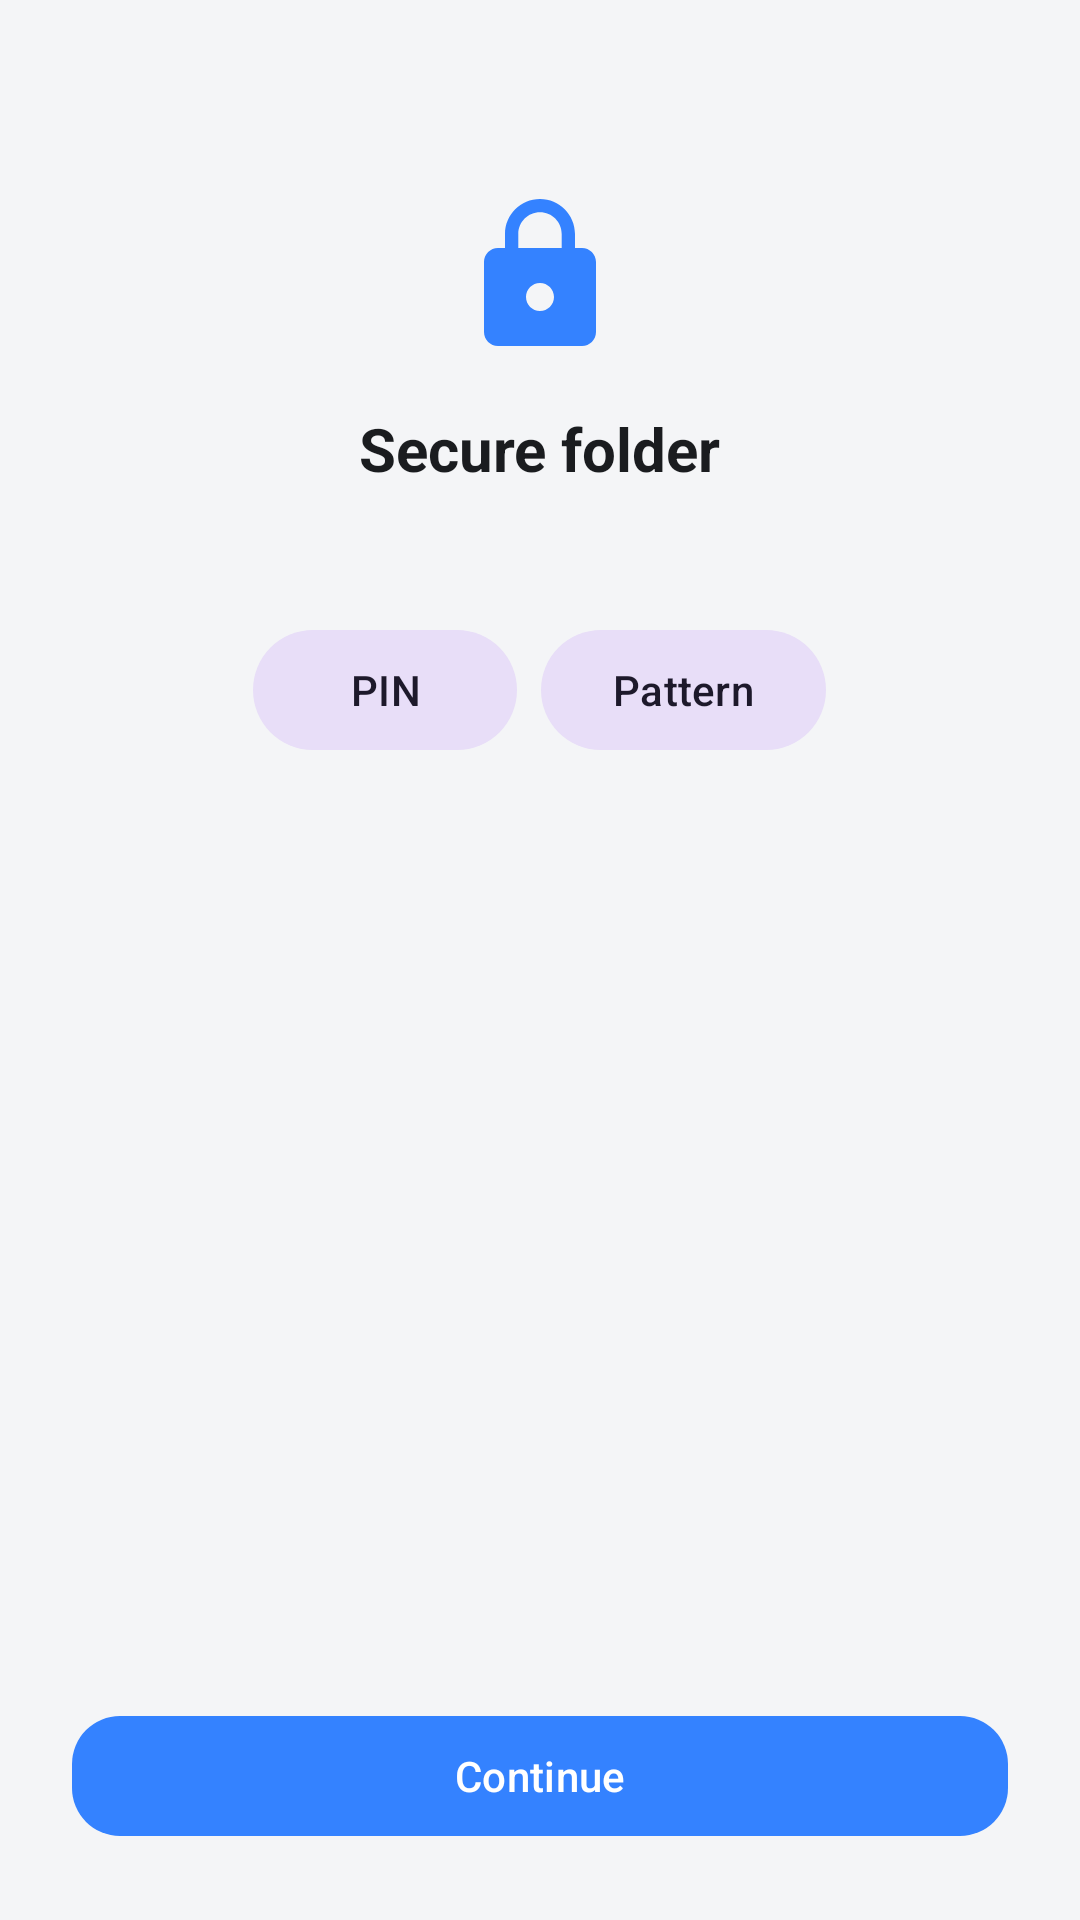

Icon bounding boxes for this 1080px x 1920px phone screenshot, format (x1, y1, x2, y2):
lock: (484, 199, 596, 346)
